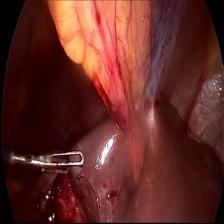Grasper: (19, 146, 91, 180)
